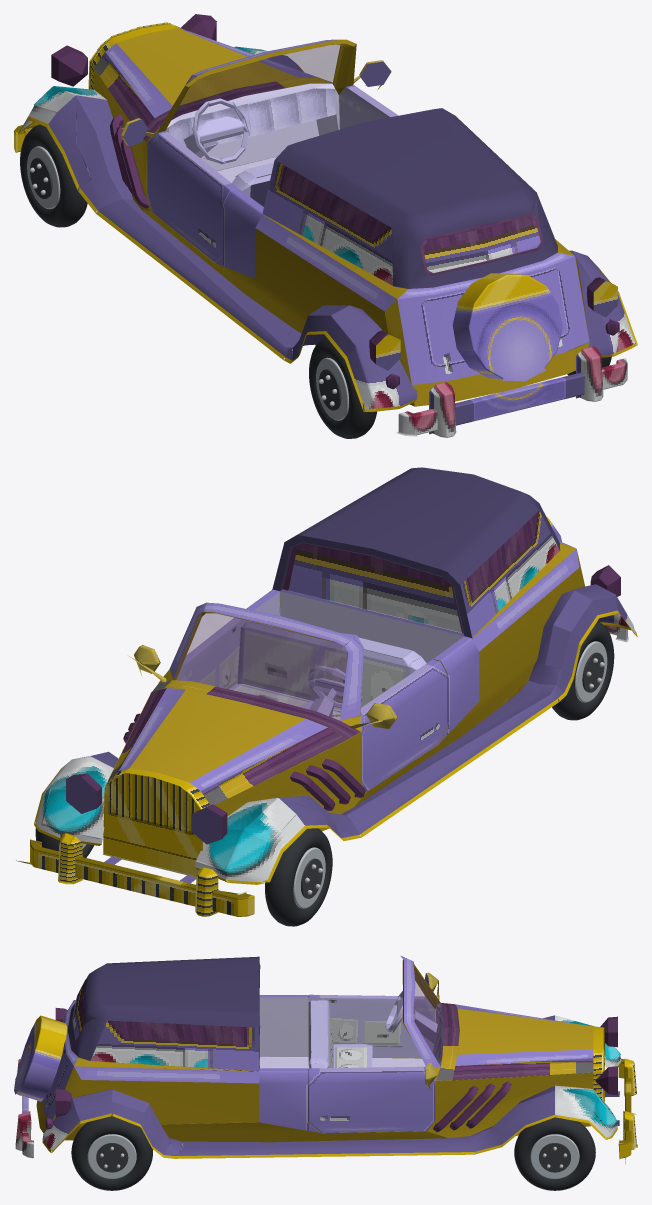
Rendered from car-smith_v.glb.
The picture shows the model from 3 angles, top to bottom: view 1: azimuth 30°, elevation 25°; view 2: azimuth 150°, elevation 25°; view 3: azimuth 270°, elevation 25°; orthographic projection. The views are drawn at different scales.
Parts seen in each view (by area): view 1: smith_vShape.005, smith_vShape.002, smith_vShape.007, TrunkRotShape.031, HoodRotShape.029, smith_vShape.008, DoorDRotShape.108, smith_vShape.011, smith_vShape.010, Rounded tire.158, smith_vShape.003, smith_vShape.009 (+8 smaller); view 2: smith_vShape.005, smith_vShape.006, smith_vShape.007, HoodRotShape.029, smith_vShape.011, DoorDRotShape.108, smith_vShape.010, smith_vShape.009, HoodRotShape.030, Rounded tire.158, smith_vShape.003, DoorPRotShape.118 (+4 smaller); view 3: smith_vShape.005, DoorPRotShape.117, smith_vShape.007, HoodRotShape.029, smith_vShape.006, DoorDRotShape.109, smith_vShape.010, Rounded tire.159, Rounded tire.156, TrunkRotShape.031, smith_vShape.004, smith_vShape.009 (+9 smaller).
Part boxes in pixels (x1,y1,x2,y2): smith_vShape.005: (48,14,615,406); smith_vShape.002: (347,280,635,437); smith_vShape.007: (165,83,339,196); TrunkRotShape.031: (452,273,562,381); HoodRotShape.029: (94,28,296,125); smith_vShape.008: (397,256,589,384); DoorDRotShape.108: (147,131,238,262); smith_vShape.011: (172,45,340,119); smith_vShape.010: (159,39,574,311); Rounded tire.158: (20,124,87,227); smith_vShape.003: (215,188,263,278); smith_vShape.009: (18,60,637,411); smith_vShape.005: (67,467,620,883); smith_vShape.006: (16,756,304,916); smith_vShape.007: (229,591,463,720); HoodRotShape.029: (108,688,346,805); smith_vShape.011: (173,612,347,720); DoorDRotShape.108: (360,659,447,791); smith_vShape.010: (169,541,579,720); smith_vShape.009: (34,610,637,884); HoodRotShape.030: (119,688,327,790); Rounded tire.158: (265,828,332,926); smith_vShape.003: (434,636,479,743); DoorPRotShape.118: (176,619,247,689); smith_vShape.005: (36,956,619,1155); DoorPRotShape.117: (308,1066,435,1132); smith_vShape.007: (259,991,443,1068); HoodRotShape.029: (452,1008,593,1080); smith_vShape.006: (555,1015,637,1163); DoorDRotShape.109: (308,997,435,1058); smith_vShape.010: (64,955,440,1083); Rounded tire.159: (514,1117,595,1190); Rounded tire.156: (71,1114,152,1190); TrunkRotShape.031: (14,1015,67,1101); smith_vShape.004: (259,1068,320,1132); smith_vShape.009: (42,972,621,1158).
Size of the model in its own units: 2.53 by 1.89 by 6.51.
15 materials, 12 textured.
